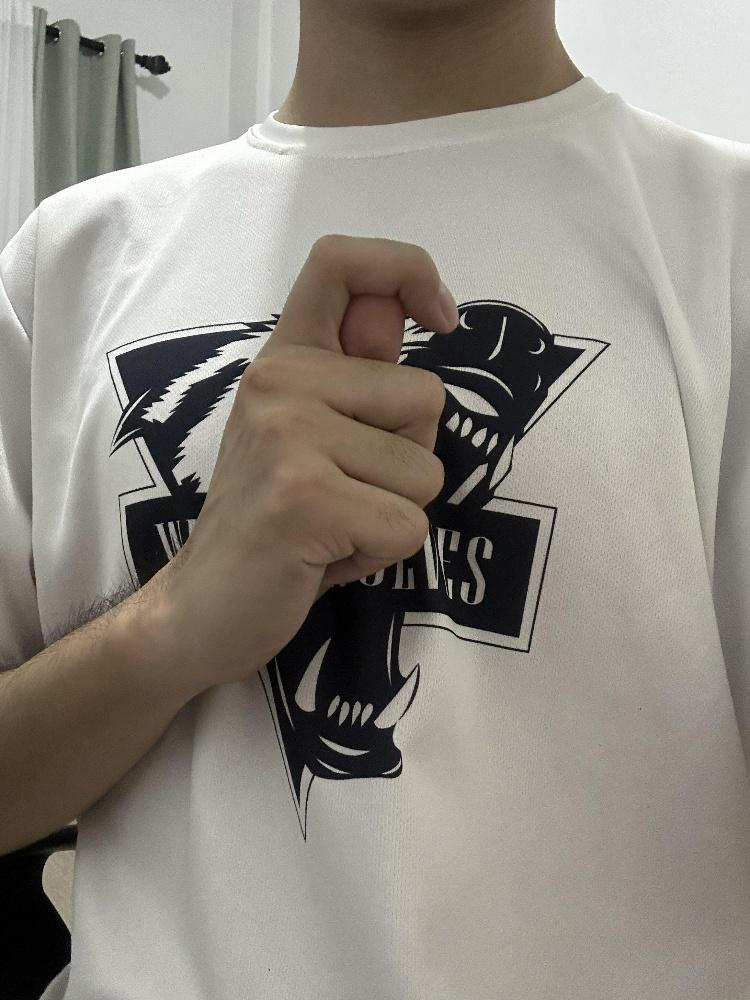t: (195, 229, 462, 684)
